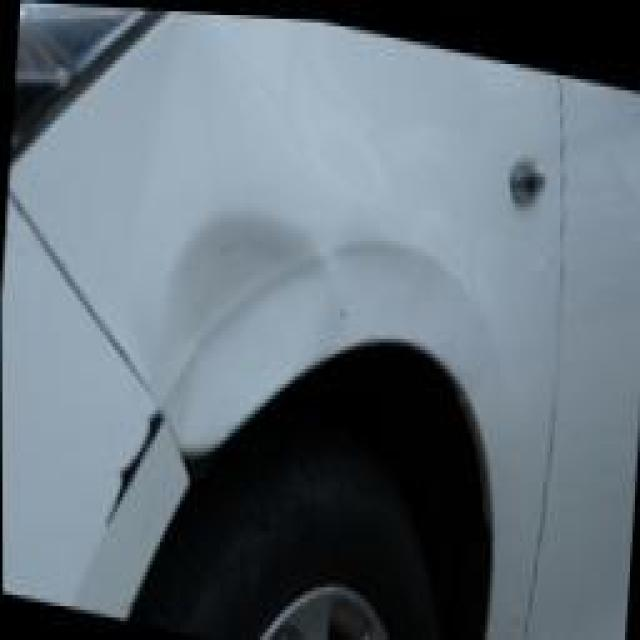Bumper: (38, 376, 191, 558)
Fender: (145, 128, 354, 470)
